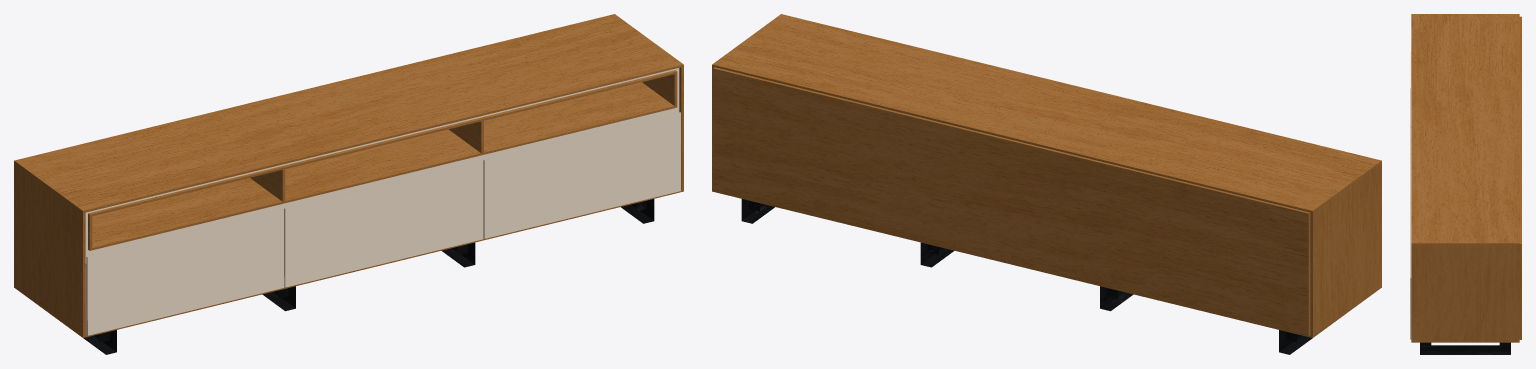
File: bancadadj.glb
3 renders of one model, left to right at view 1: azimuth 30°, elevation 25°; view 2: azimuth 150°, elevation 25°; view 3: azimuth 270°, elevation 25°, orthographic. The views are drawn at different scales.
Parts seen in each view (by area): view 1: Plane.013, Plane, Plane.007, Plane.003, Plane.008, Plane.006, Plane.001, Plane.011, Plane.009, Plane.012, Plane.017, Plane.018 (+2 smaller); view 2: Plane.014, Plane, Plane.003, Plane.001, Plane.017, Plane.018, Plane.016, Plane.015; view 3: Plane, Plane.002, Plane.018, Plane.014, Plane.013, Plane.001.
Boxes of the visible parts, x1,y1,x2,y2 form: Plane.013: [86, 112, 680, 335]; Plane: [14, 14, 683, 212]; Plane.007: [88, 82, 677, 250]; Plane.003: [14, 163, 85, 335]; Plane.008: [85, 68, 679, 263]; Plane.006: [88, 70, 677, 216]; Plane.001: [14, 189, 683, 337]; Plane.011: [250, 169, 285, 201]; Plane.009: [642, 73, 677, 105]; Plane.012: [449, 121, 483, 153]; Plane.017: [441, 242, 475, 267]; Plane.018: [621, 199, 654, 223]; Plane.014: [713, 67, 1310, 336]; Plane: [712, 14, 1381, 212]; Plane.003: [1310, 163, 1381, 335]; Plane.001: [712, 189, 1381, 337]; Plane.017: [920, 242, 954, 267]; Plane.018: [741, 199, 774, 223]; Plane.016: [1279, 330, 1312, 354]; Plane.015: [1100, 286, 1133, 311]; Plane: [1411, 14, 1519, 244]; Plane.002: [1411, 245, 1519, 340]; Plane.018: [1420, 342, 1510, 354]; Plane.014: [1519, 16, 1521, 339]; Plane.013: [1410, 51, 1411, 339]; Plane.001: [1411, 341, 1519, 342].
Bounding box in the file's own units: 2.26 × 0.5562 × 0.4659.
Materials: 3 (2 with a texture image).
